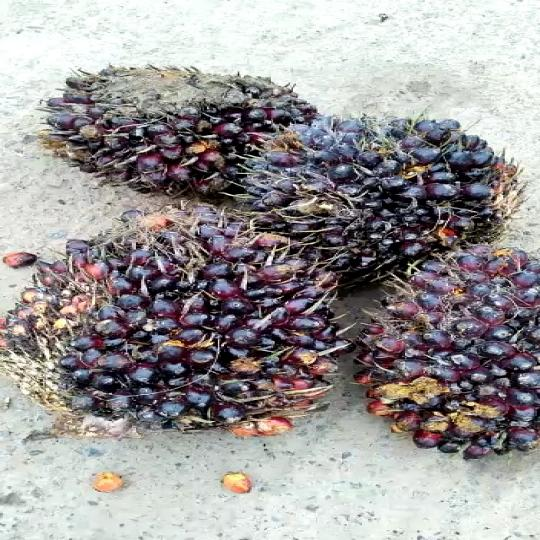kurang masak: (32, 210, 340, 436), (238, 107, 516, 289), (356, 244, 540, 461), (53, 65, 303, 190)
